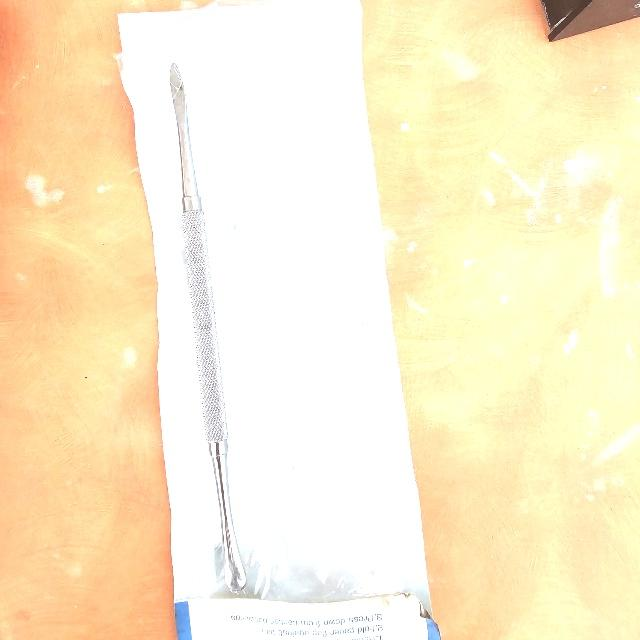elevador: (168, 57, 248, 591)
